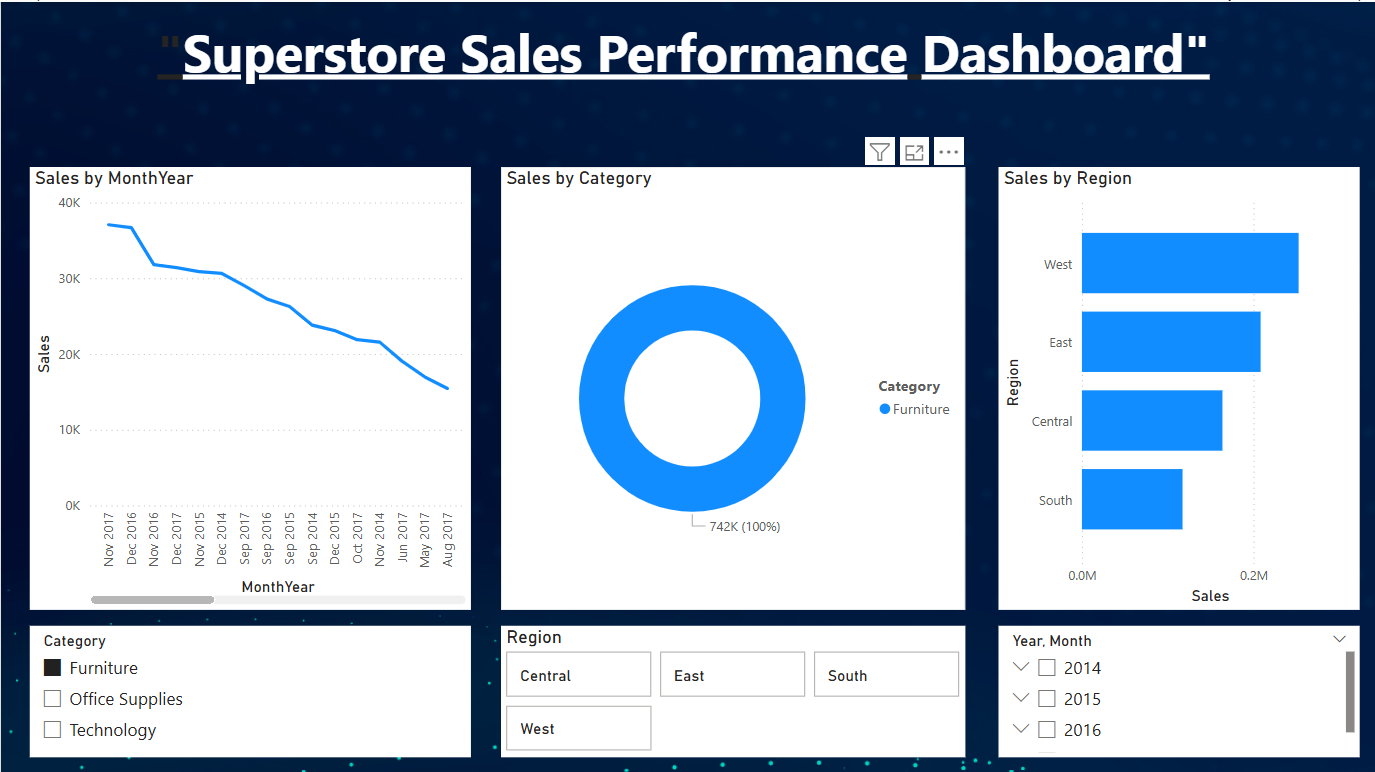

This screenshot's page, from the dashboard's own definition file:
{"tool":"powerbi","page":{"name":"Page 1","canvas":[1280,720],"ordinal":0},"visuals":[{"type":"textbox","box":[54.7,8.1,1160.5,87.2],"z":0},{"type":"lineChart","fields":{"Category":["Sample - Superstore.MonthYear"],"Y":["Sum(Sample - Superstore.Sales)"]},"box":[26.4,153.7,410.7,411.9],"z":1},{"type":"donutChart","fields":{"Category":["Sample - Superstore.Category"],"Y":["Sum(Sample - Superstore.Sales)"]},"box":[464.7,153.7,432.3,411.9],"z":2},{"type":"barChart","fields":{"Category":["Sample - Superstore.Region"],"Y":["Sum(Sample - Superstore.Sales)"]},"box":[928.2,153.7,336.2,411.9],"z":3},{"type":"slicer","fields":{"Values":["Sample - Superstore.Category"]},"box":[26.4,580,410.7,122.5],"z":4},{"type":"advancedSlicerVisual","fields":{"Values":["Sample - Superstore.Region"]},"box":[464.7,580,432.3,122.5],"z":5},{"type":"slicer","fields":{"Values":["Sample - Superstore.Order Date.Variation.Date Hierarchy.Year","Sample - Superstore.Order Date.Variation.Date Hierarchy.Month"]},"box":[928.2,580,336.2,122.5],"z":6}]}

Visuals, with their boxes in screenshot pixels (x1, y1, x2, y2), scaled from the page's 1280x720 canvas onto the 1375x772 screenshot:
textbox: select_region(59, 9, 1305, 102)
lineChart - Sample - Superstore.MonthYear x Sum(Sample - Superstore.Sales): select_region(28, 165, 470, 606)
donutChart - Sample - Superstore.Category x Sum(Sample - Superstore.Sales): select_region(499, 165, 964, 606)
barChart - Sample - Superstore.Region x Sum(Sample - Superstore.Sales): select_region(997, 165, 1358, 606)
slicer - Sample - Superstore.Category: select_region(28, 622, 470, 753)
advancedSlicerVisual - Sample - Superstore.Region: select_region(499, 622, 964, 753)
slicer - Sample - Superstore.Order Date.Variation.Date Hierarchy.Year x Sample - Superstore.Order Date.Variation.Date Hierarchy.Month: select_region(997, 622, 1358, 753)
